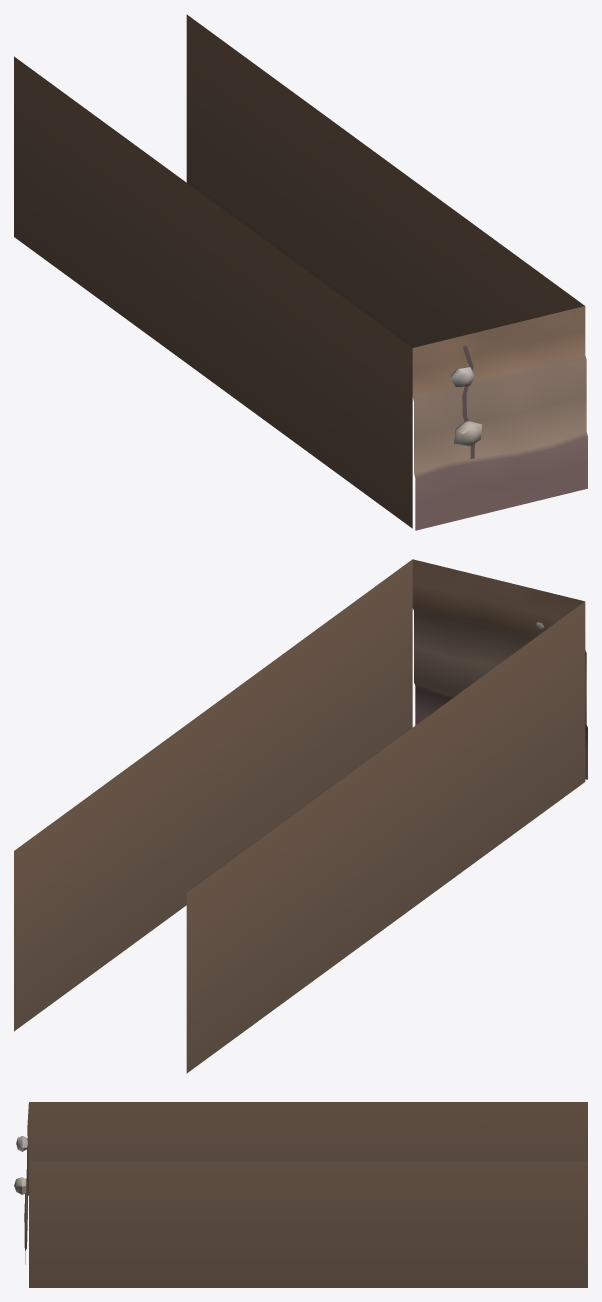
Rendered from groundlite_deep_1.glb.
The picture shows the model from 3 angles, top to bottom: view 1: azimuth 30°, elevation 25°; view 2: azimuth 150°, elevation 25°; view 3: azimuth 270°, elevation 25°; orthographic projection. The views are drawn at different scales.
Parts seen in each view (by area): view 1: groundlite_deep_1; view 2: groundlite_deep_1; view 3: groundlite_deep_1.
Part boxes in pixels (x1,y1,x2,y2): groundlite_deep_1: (14,14,587,530); groundlite_deep_1: (14,559,587,1073); groundlite_deep_1: (14,1102,587,1287).
Size of the model in its own units: 1 by 1 by 4.11.
